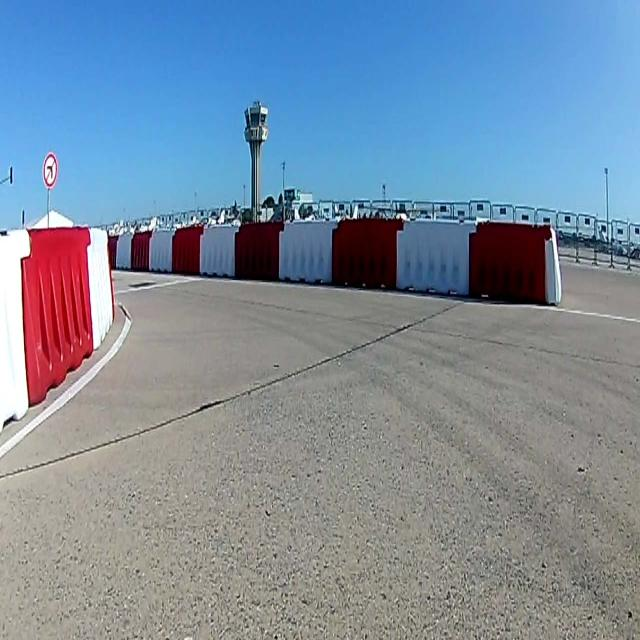soladonulmez: (43, 154, 57, 186)
